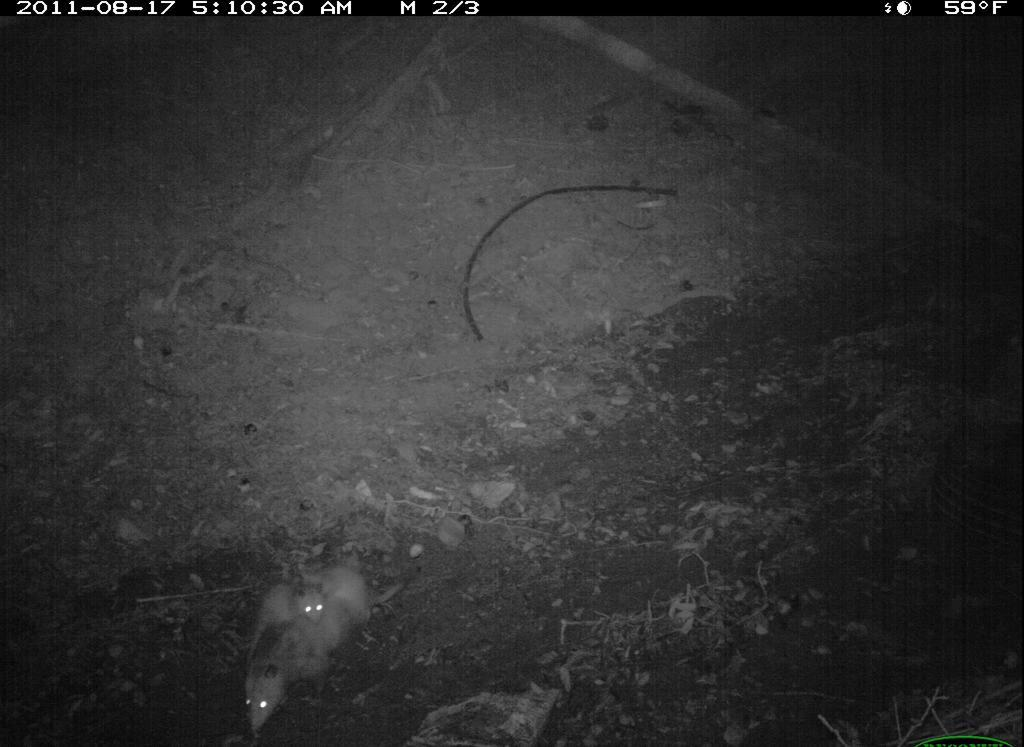opossum: (230, 552, 414, 740)
